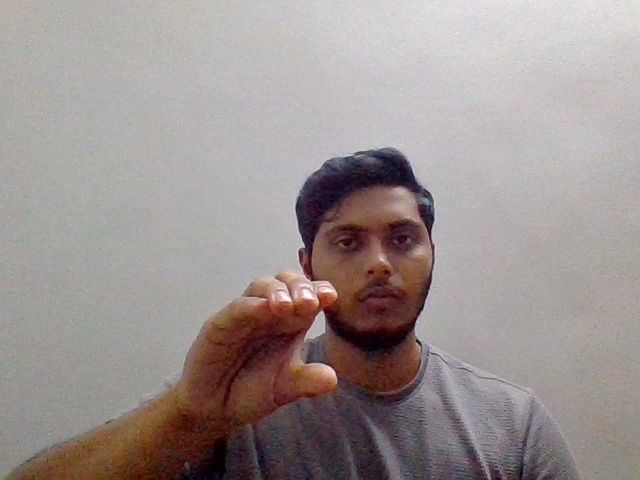No: (170, 262, 342, 435)
